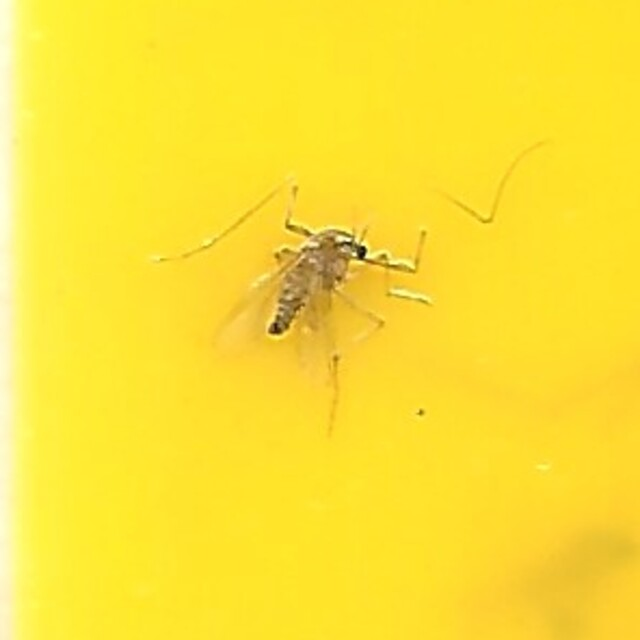Nematocera: (216, 208, 424, 432)
